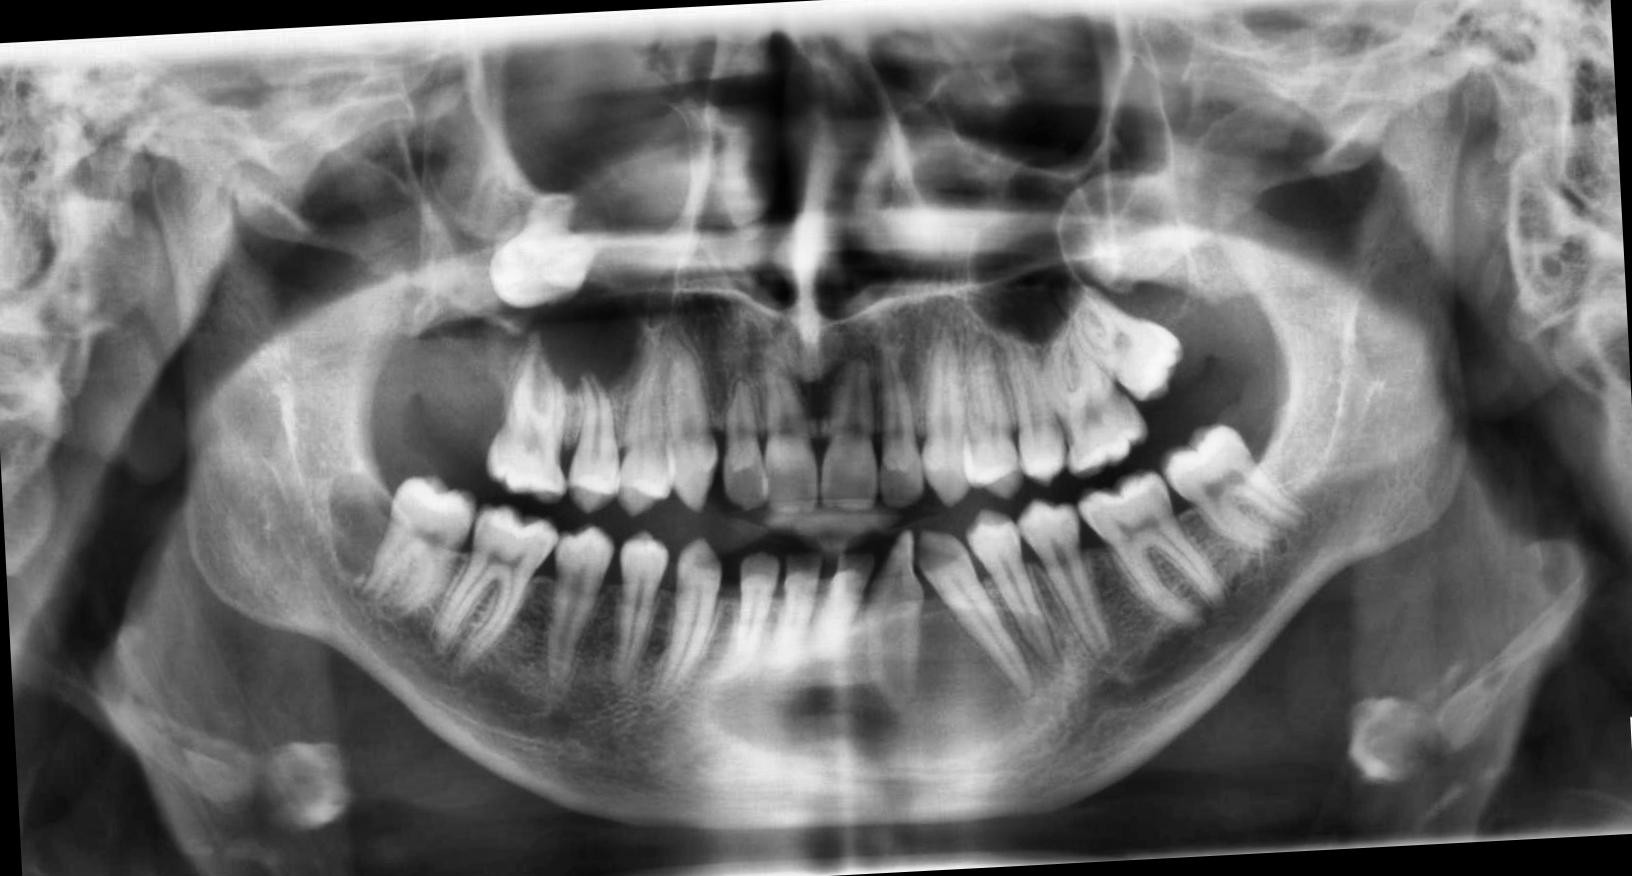keratokist: (413, 41, 705, 399), (704, 600, 1076, 783), (1059, 178, 1194, 328), (327, 468, 400, 583)
